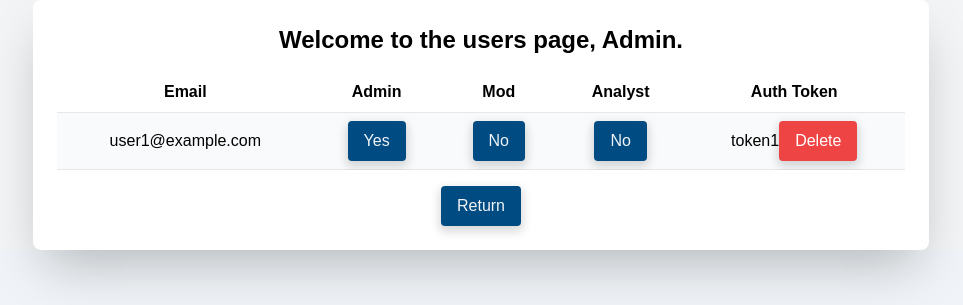
Test: AdminPage › deletes a user successfully
The width and height of the screenshot is (963, 305).
Expected: the text "user1@example.com" is shown, [57, 112, 314, 170]
Step 1. Click the button "Delete" → coordinates (818, 141), box [779, 121, 857, 161]
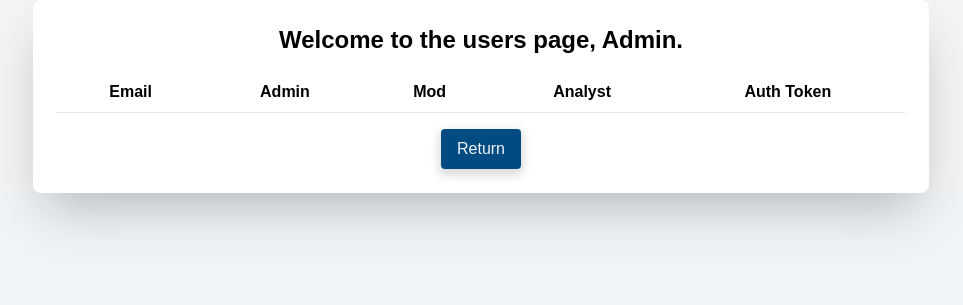
Expected: the text "user1@example.com" is gone
